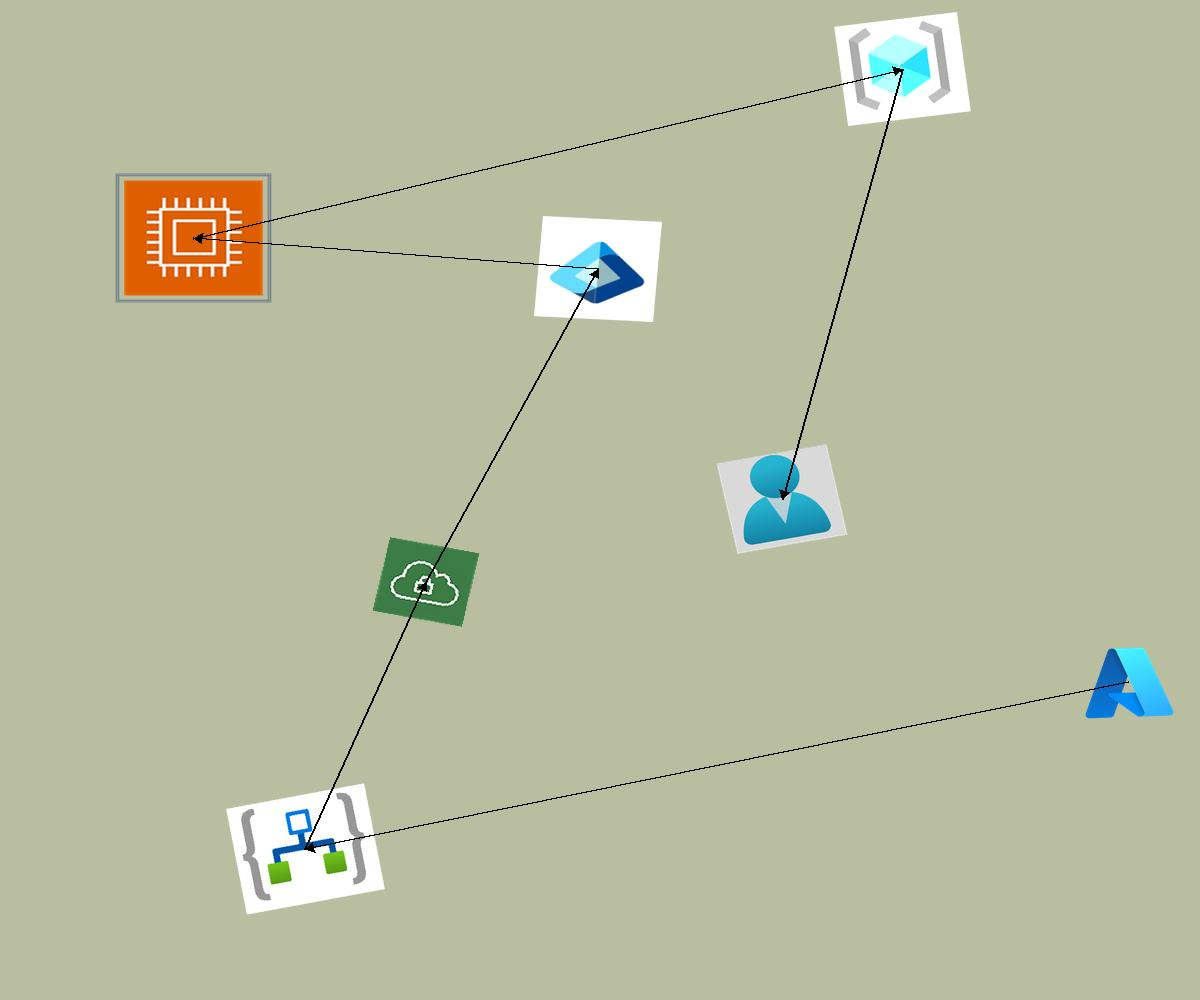AWS-Category_Compute: (114, 172, 273, 304)
AWS-Private_vpc: (372, 537, 480, 627)
Azure_integration-204-Logic-Apps: (226, 783, 385, 915)
Azure_microsoft_entra: (534, 216, 662, 322)
Azure_resource_group: (834, 12, 971, 126)
Azure_services: (1078, 641, 1178, 724)
Azure_users: (716, 444, 848, 554)
